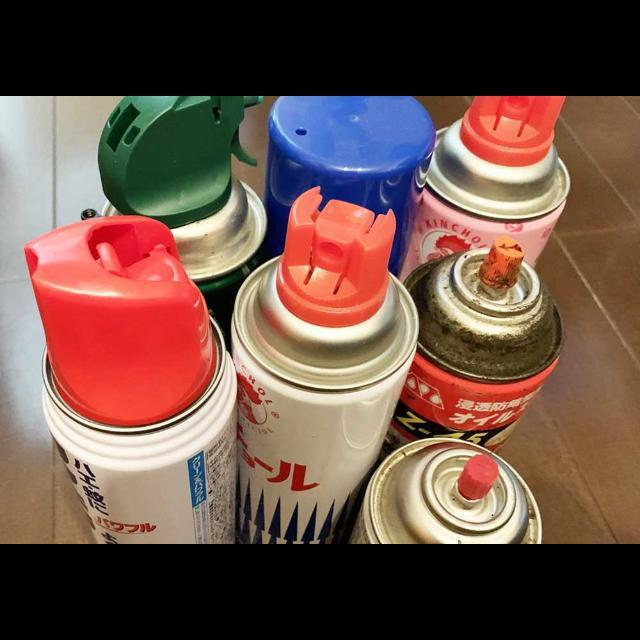chemical_spray_can: (24, 215, 236, 544), (232, 187, 419, 544)
